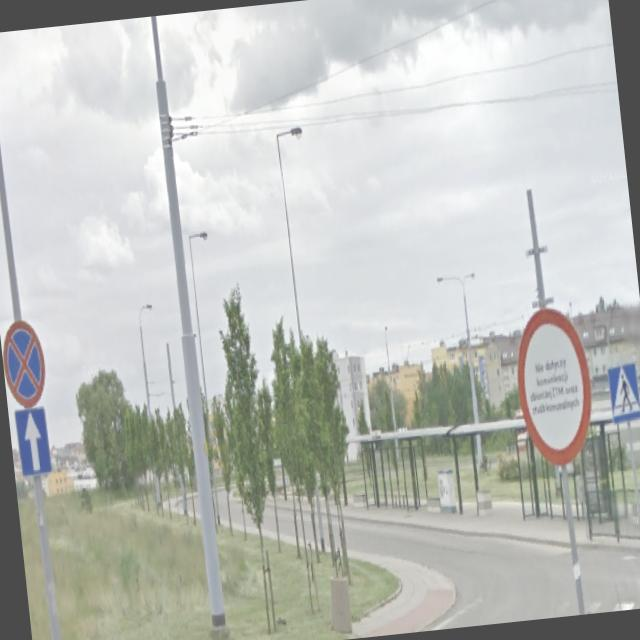Przejscie dla pieszych: (605, 363, 640, 422)
Zakaz ruchu w obu kierunkach: (510, 303, 598, 472)
Zakaz zatrzymywania sie: (0, 315, 48, 409)
